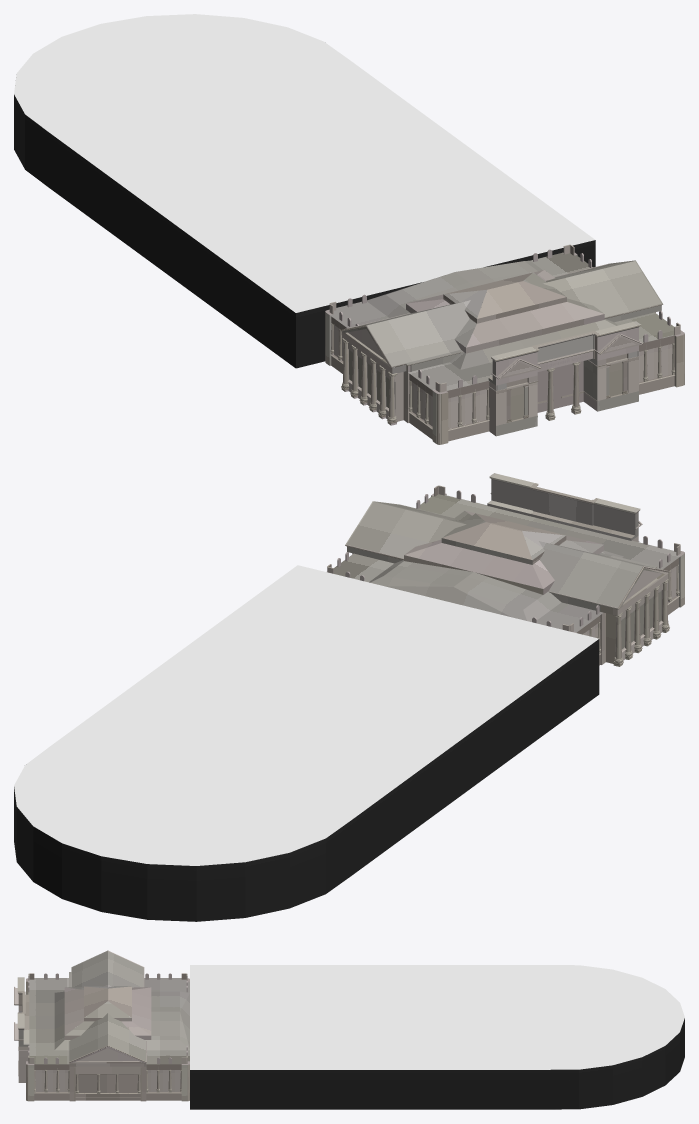
3 renders of one model, top to bottom at view 1: azimuth 30°, elevation 25°; view 2: azimuth 150°, elevation 25°; view 3: azimuth 270°, elevation 25°, orthographic. The views are drawn at different scales.
Parts seen in each view (by area): view 1: Untitled; view 2: Untitled; view 3: Untitled.
Part boxes in pixels (x1,y1,x2,y2): Untitled: [14, 14, 684, 444]; Untitled: [14, 473, 684, 921]; Untitled: [14, 950, 684, 1109].
Bounding box in the file's own units: 19.25 × 5.4 × 52.05.
4 materials, 3 textured.
